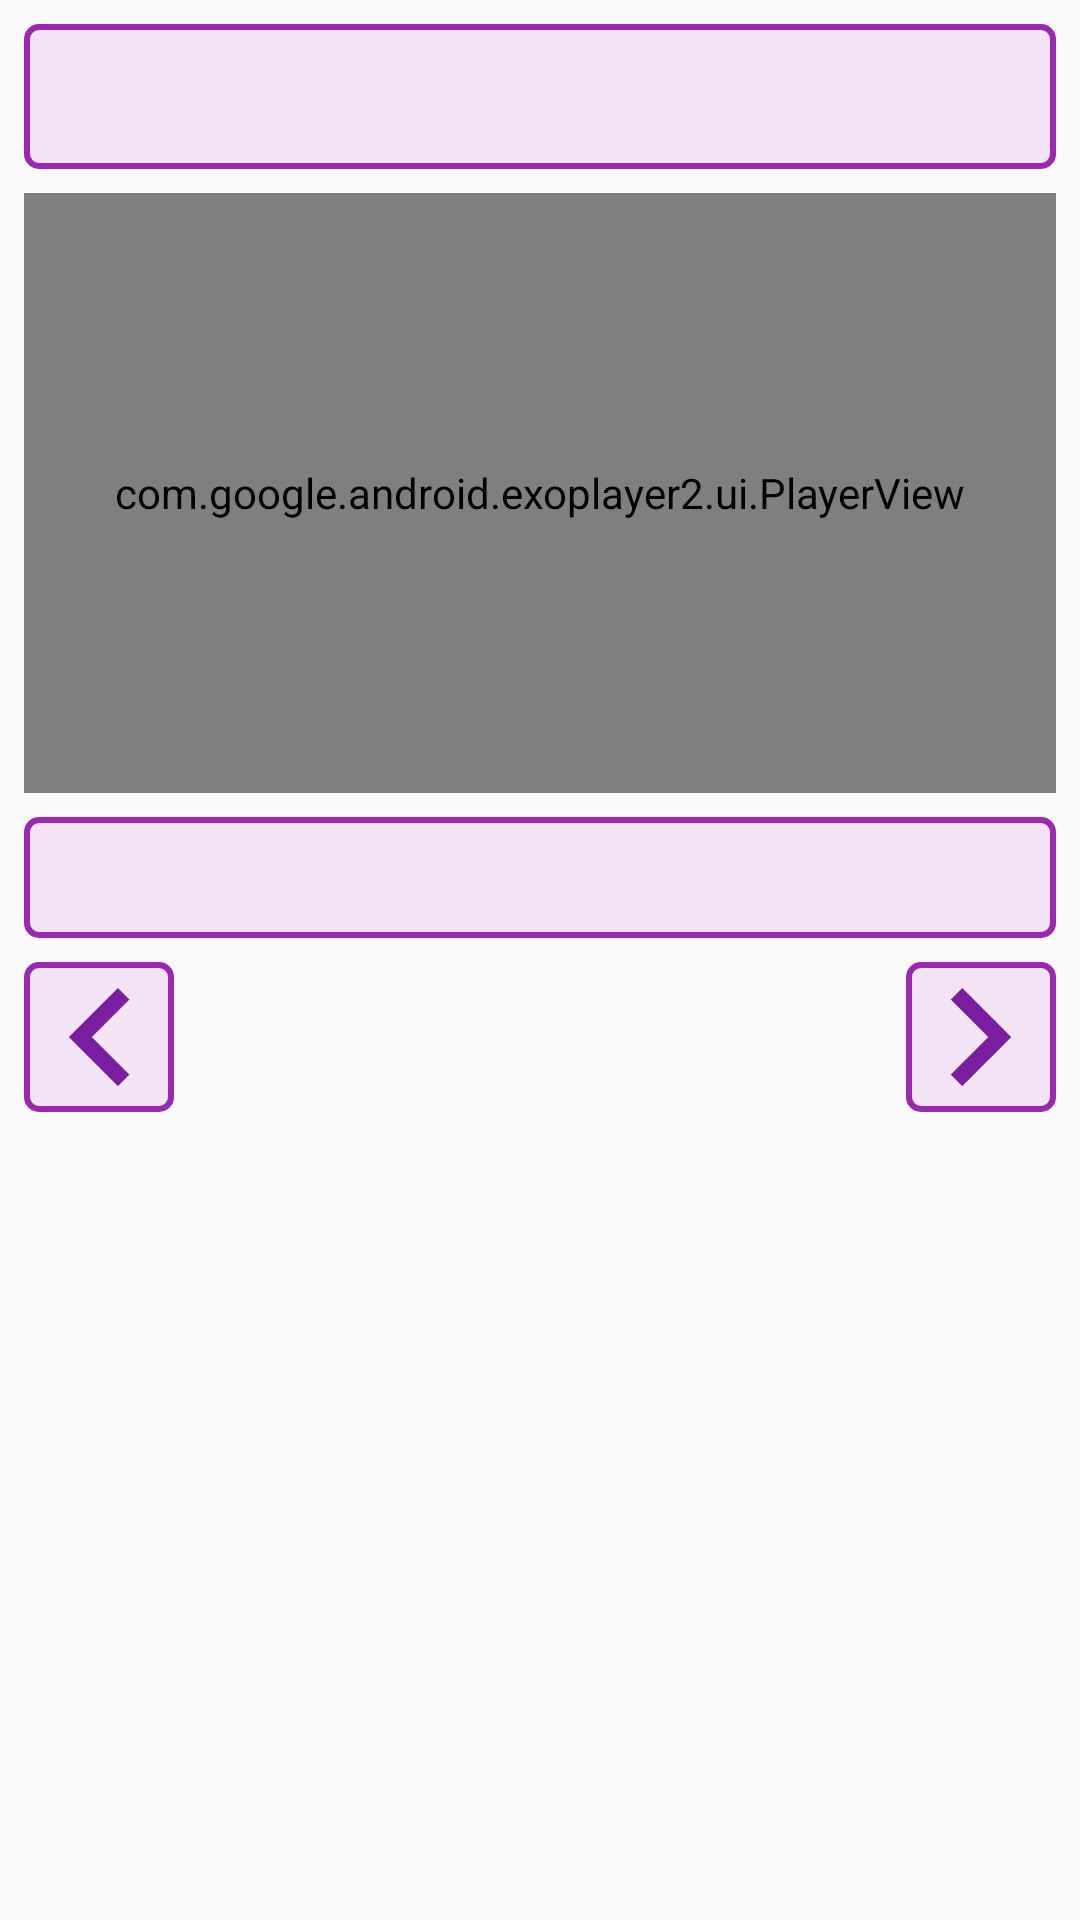

Icons on this 1080×1920 Android screen, each with the point to tap as point (x, y):
chevron left: point (99, 1037)
chevron right: point (981, 1037)
